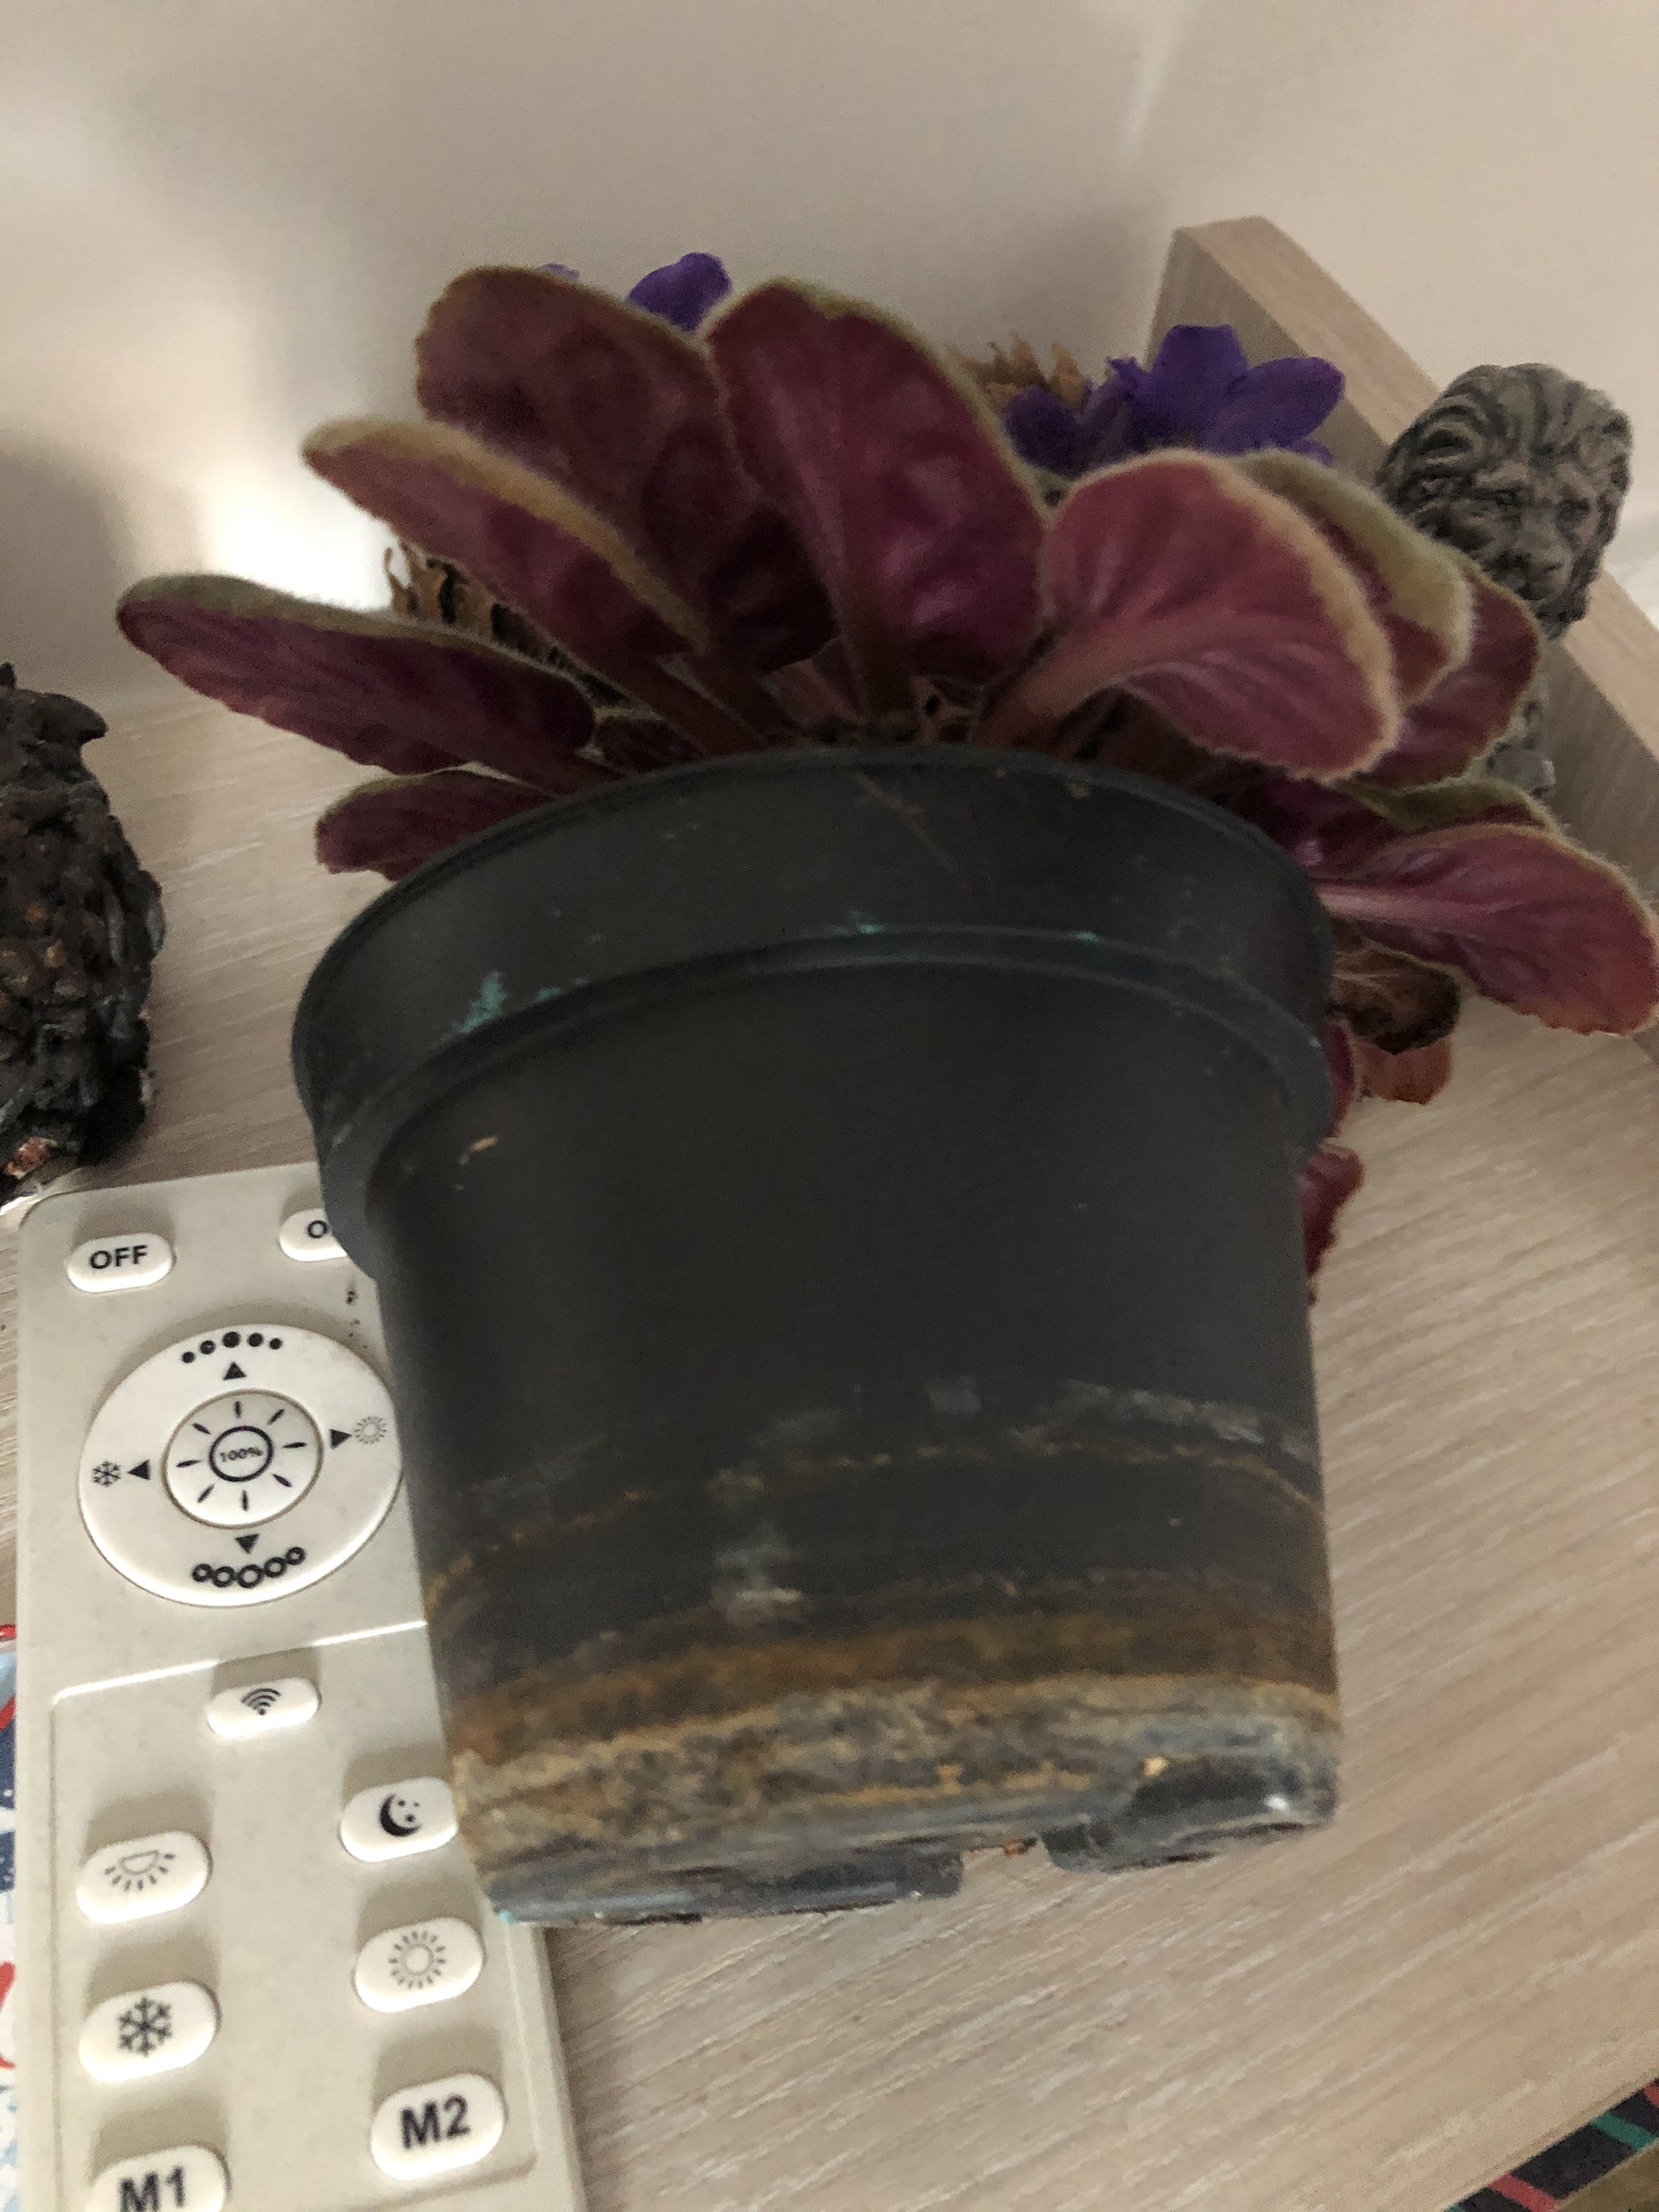ignore: (113, 207, 1631, 1055)
